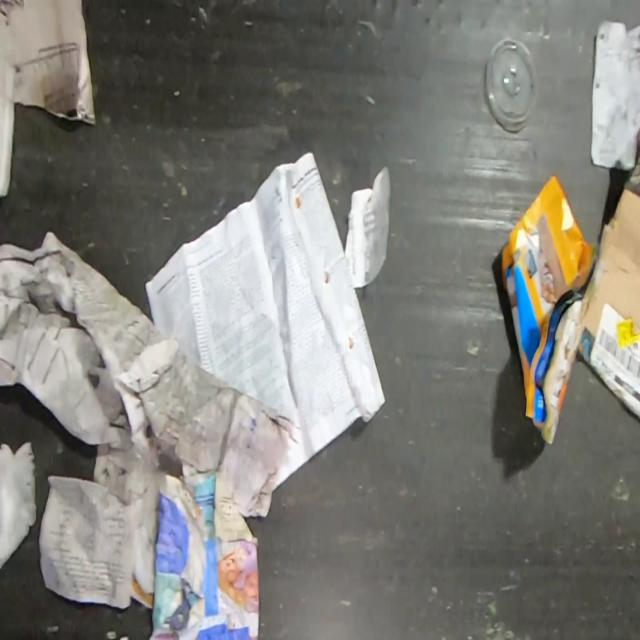cardboard: (577, 148, 640, 421)
rigid_plastic: (486, 36, 539, 132)
